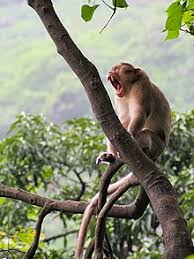monkey: (42, 38, 192, 202)
